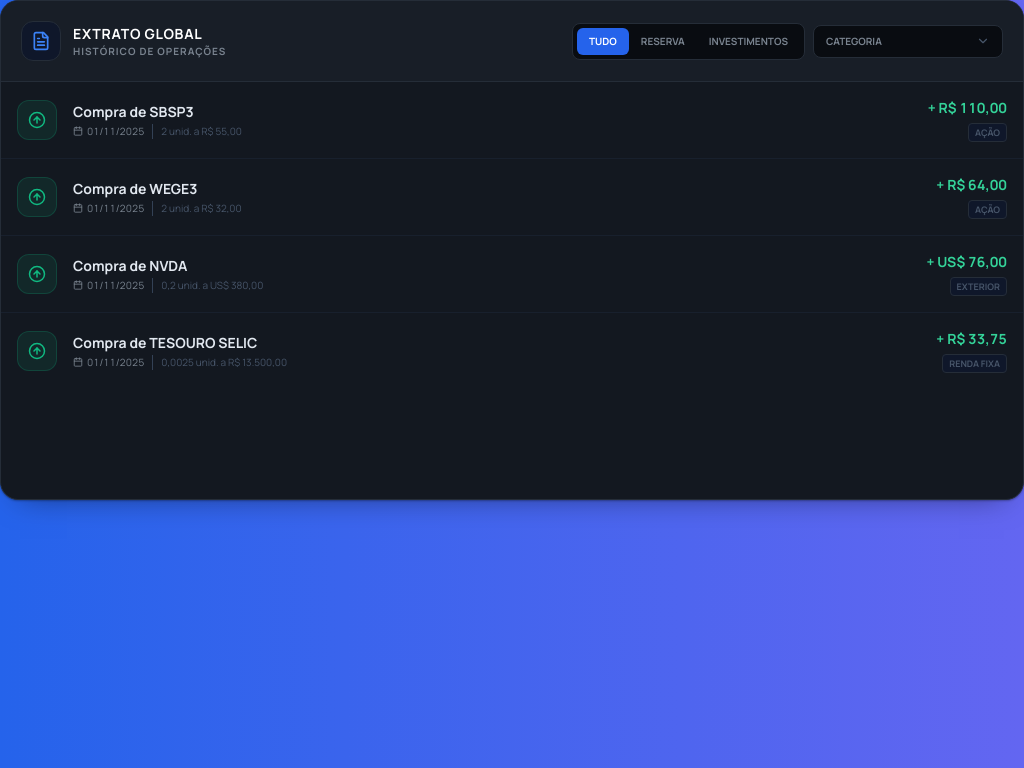
it: CashFlowHistory — filtros por tipo › oferece filtros detalhados e filtra as transações demo
Expected: the button "Tudo" is shown, top-left (577, 28), bottom-right (629, 54)
Expected: the button "Reserva" is shown, top-left (629, 28), bottom-right (697, 54)
Click the button with aria-label "Categoria de investimento: Categoria" at (908, 41), box top-left (813, 24), bottom-right (1003, 58)
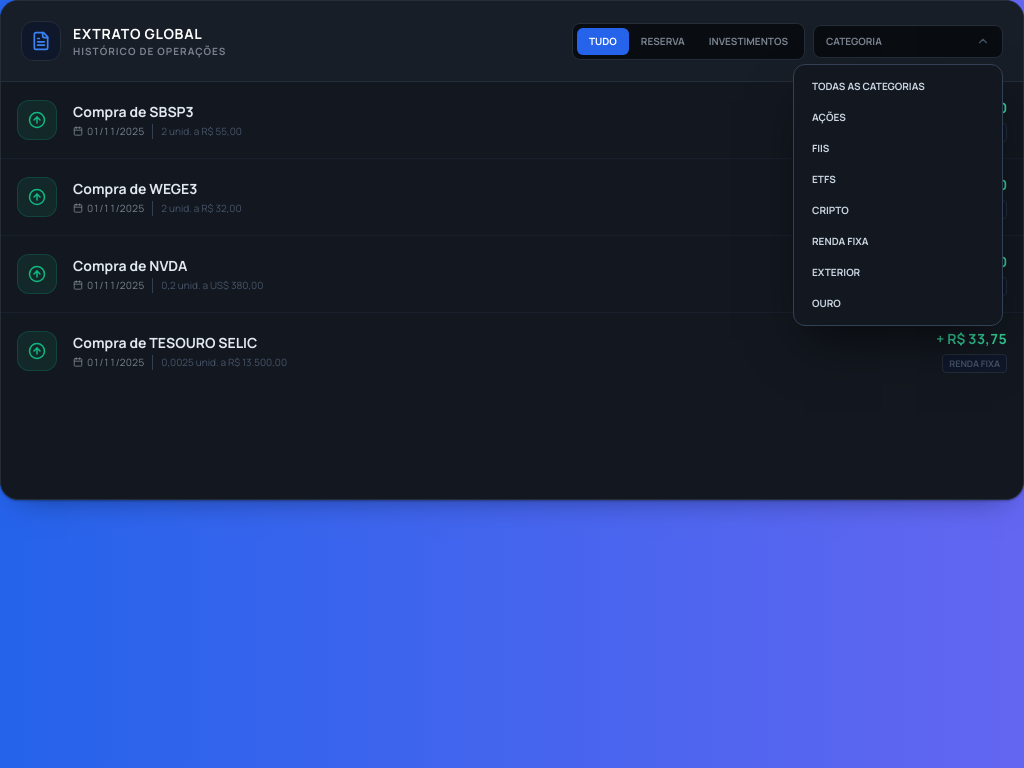
Expected: the option "Todas as categorias" is shown, top-left (800, 70), bottom-right (996, 102)
Expected: the option "Ações" is shown
Expected: the option "FIIs" is shown, top-left (800, 132), bottom-right (996, 164)
Click the option "Ações" at (898, 117), box top-left (800, 102), bottom-right (996, 132)
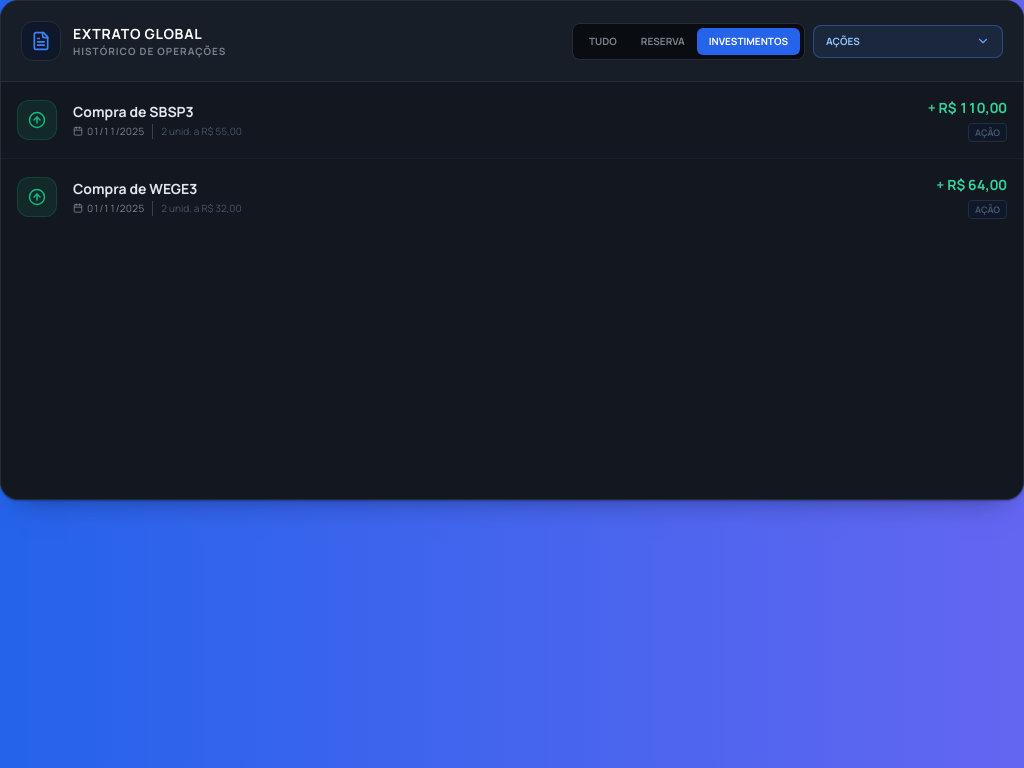
Expected: the text "Compra de SBSP3" is shown, top-left (73, 102), bottom-right (194, 120)
Expected: the text "Compra de NVDA" is gone
Expected: the text "Compra de TESOURO SELIC" is gone
Click the button with aria-label "Categoria de investimento: Ações" at (908, 41), box top-left (813, 24), bottom-right (1003, 58)
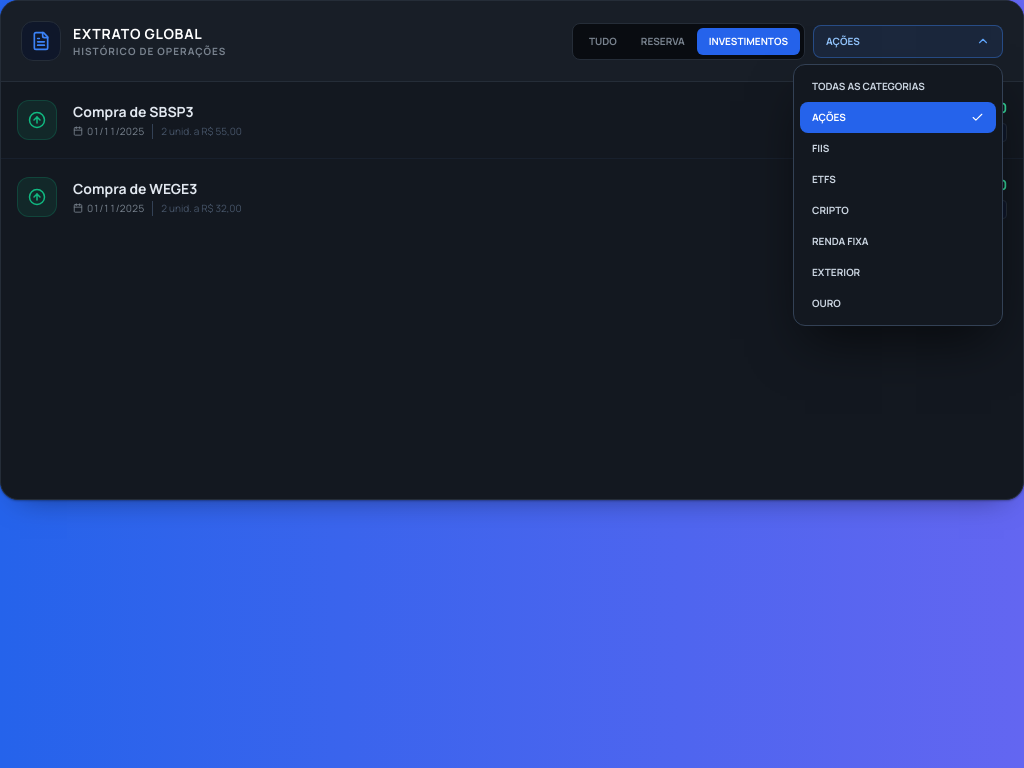
Click the option "ETFs" at (898, 179), box top-left (800, 164), bottom-right (996, 194)
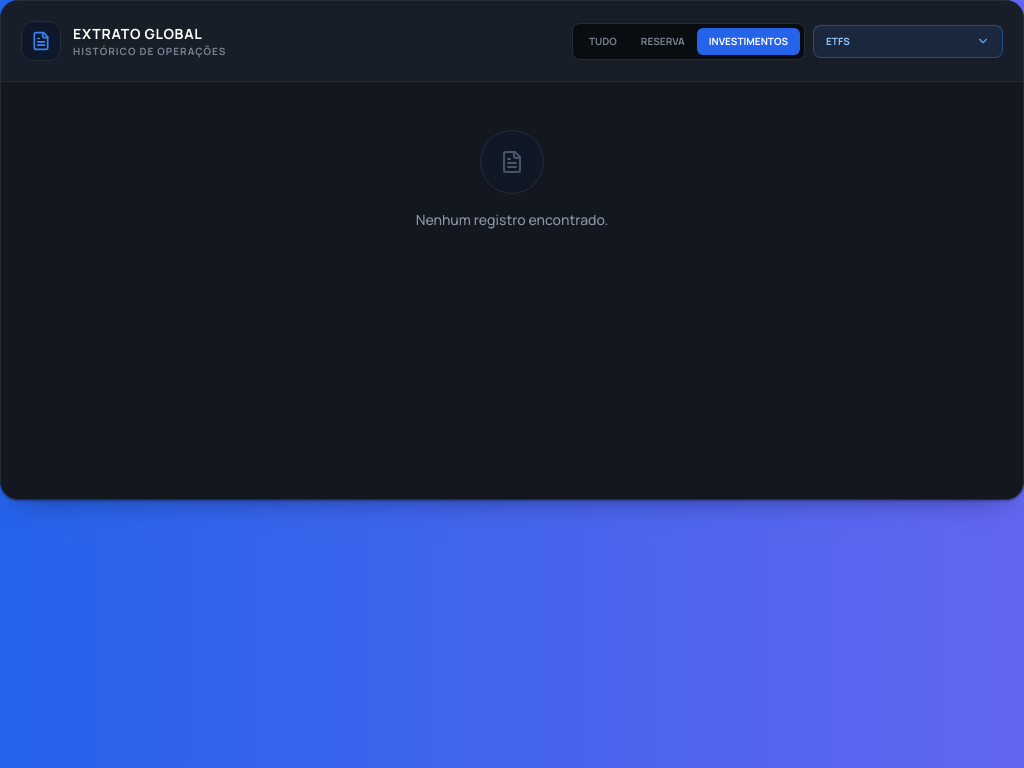
Expected: the text "Nenhum registro encontrado." is shown, top-left (416, 210), bottom-right (608, 229)
